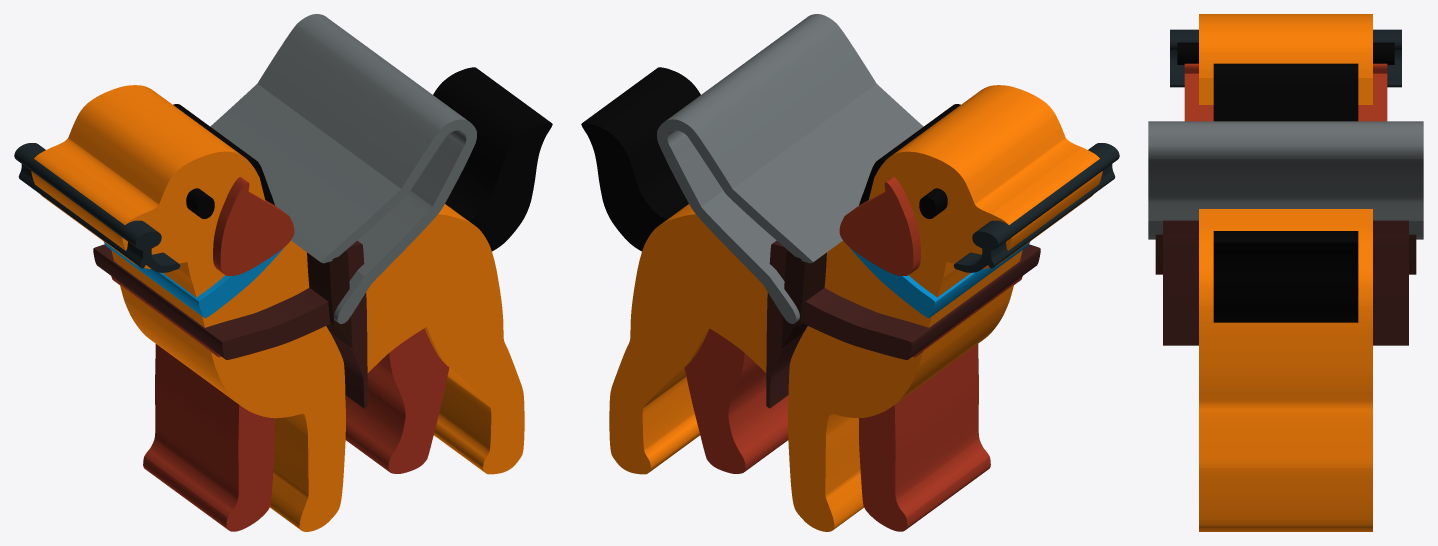
3 views of the same model, side by side, from view 1: azimuth 30°, elevation 25°; view 2: azimuth 150°, elevation 25°; view 3: azimuth 270°, elevation 25° (orthographic). The views are drawn at different scales.
Visible parts, largest first — view 1: U+1F9AE_layer02_obj00, U+1F9AE_layer09_obj00, U+1F9AE_layer01_obj00, U+1F9AE_layer00_obj00, U+1F9AE_layer01_obj01, U+1F9AE_layer07_obj00, U+1F9AE_layer04_obj00, U+1F9AE_layer06_obj00, U+1F9AE_layer03_obj00, U+1F9AE_layer08_obj00, U+1F9AE_layer00_obj01, U+1F9AE_layer05_obj00; view 2: U+1F9AE_layer02_obj00, U+1F9AE_layer09_obj00, U+1F9AE_layer01_obj00, U+1F9AE_layer00_obj00, U+1F9AE_layer01_obj01, U+1F9AE_layer07_obj00, U+1F9AE_layer04_obj00, U+1F9AE_layer06_obj00, U+1F9AE_layer03_obj00, U+1F9AE_layer08_obj00, U+1F9AE_layer00_obj01, U+1F9AE_layer05_obj00; view 3: U+1F9AE_layer02_obj00, U+1F9AE_layer09_obj00, U+1F9AE_layer00_obj00, U+1F9AE_layer07_obj00, U+1F9AE_layer00_obj01, U+1F9AE_layer04_obj00, U+1F9AE_layer06_obj00, U+1F9AE_layer05_obj00, U+1F9AE_layer08_obj00.
Part boxes in pixels (<box>): U+1F9AE_layer02_obj00: <box>31,85,524,531</box>; U+1F9AE_layer09_obj00: <box>210,14,476,323</box>; U+1F9AE_layer01_obj00: <box>143,344,274,531</box>; U+1F9AE_layer00_obj00: <box>433,67,552,251</box>; U+1F9AE_layer01_obj01: <box>345,328,449,473</box>; U+1F9AE_layer07_obj00: <box>93,240,367,408</box>; U+1F9AE_layer04_obj00: <box>213,177,294,275</box>; U+1F9AE_layer06_obj00: <box>14,143,180,272</box>; U+1F9AE_layer03_obj00: <box>104,242,284,318</box>; U+1F9AE_layer08_obj00: <box>307,250,352,347</box>; U+1F9AE_layer00_obj01: <box>173,104,274,205</box>; U+1F9AE_layer05_obj00: <box>186,188,214,218</box>; U+1F9AE_layer02_obj00: <box>609,85,1102,531</box>; U+1F9AE_layer09_obj00: <box>657,14,923,323</box>; U+1F9AE_layer01_obj00: <box>859,344,990,531</box>; U+1F9AE_layer00_obj00: <box>581,67,700,251</box>; U+1F9AE_layer01_obj01: <box>684,328,788,473</box>; U+1F9AE_layer07_obj00: <box>766,240,1040,408</box>; U+1F9AE_layer04_obj00: <box>839,177,920,275</box>; U+1F9AE_layer06_obj00: <box>953,143,1119,272</box>; U+1F9AE_layer03_obj00: <box>849,242,1029,318</box>; U+1F9AE_layer08_obj00: <box>781,250,826,347</box>; U+1F9AE_layer00_obj01: <box>859,104,960,205</box>; U+1F9AE_layer05_obj00: <box>919,188,947,218</box>; U+1F9AE_layer02_obj00: <box>1199,14,1372,531</box>; U+1F9AE_layer09_obj00: <box>1148,121,1423,239</box>; U+1F9AE_layer00_obj00: <box>1213,231,1358,322</box>; U+1F9AE_layer07_obj00: <box>1163,220,1408,345</box>; U+1F9AE_layer00_obj01: <box>1213,63,1358,121</box>; U+1F9AE_layer04_obj00: <box>1184,63,1387,121</box>; U+1F9AE_layer06_obj00: <box>1170,29,1401,87</box>; U+1F9AE_layer05_obj00: <box>1177,42,1394,64</box>; U+1F9AE_layer08_obj00: <box>1155,234,1416,274</box>.
Size of the model in its own units: 0.3348 by 0.2926 by 0.19.
